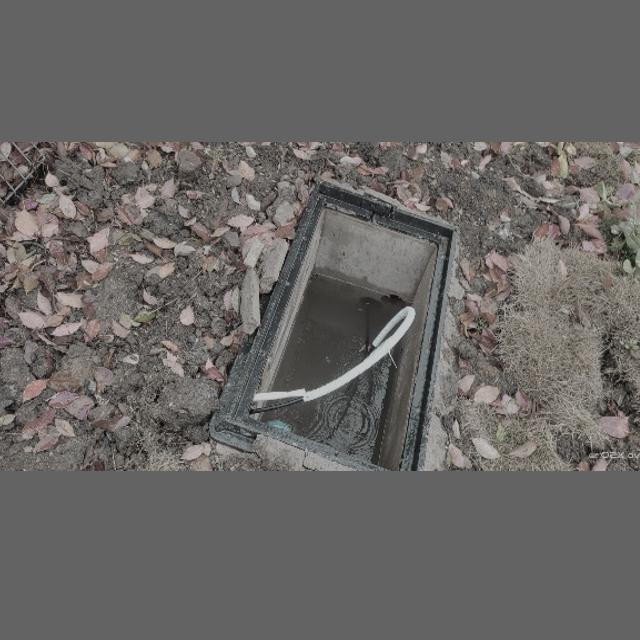lose: (205, 179, 457, 469)
